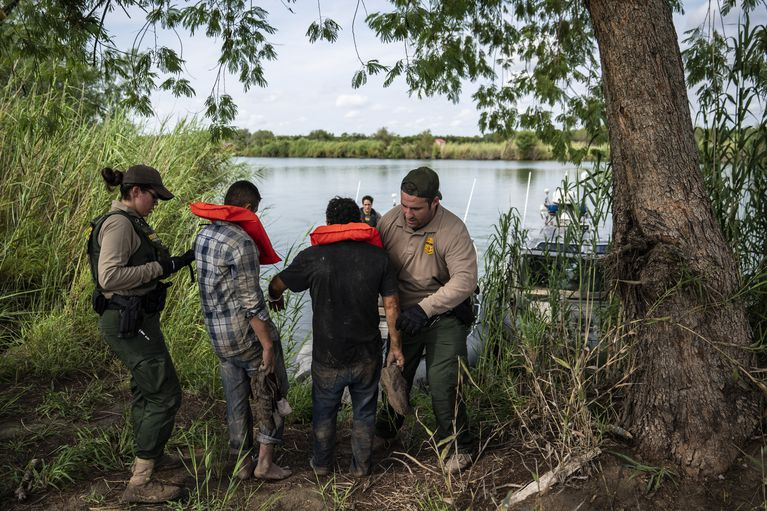person: (79, 157, 200, 504), (371, 166, 510, 457), (183, 168, 296, 481), (280, 189, 392, 477), (360, 196, 377, 222)
